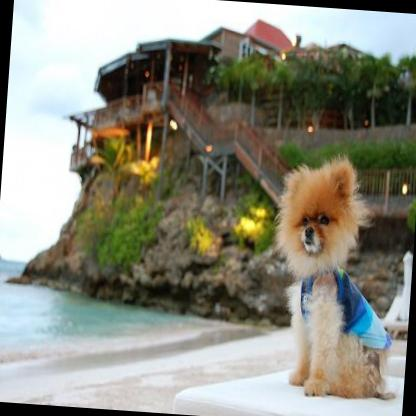Pomeranian: (260, 147, 416, 401)
